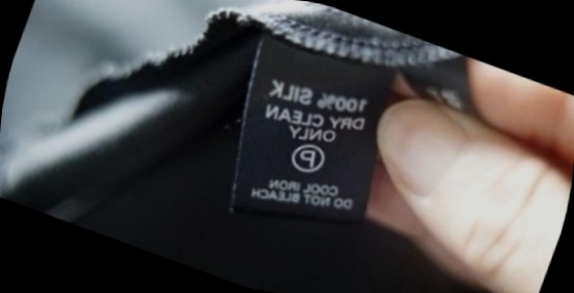dry_clean_any_solvent_except_trichloroethylene: (282, 133, 333, 182)
